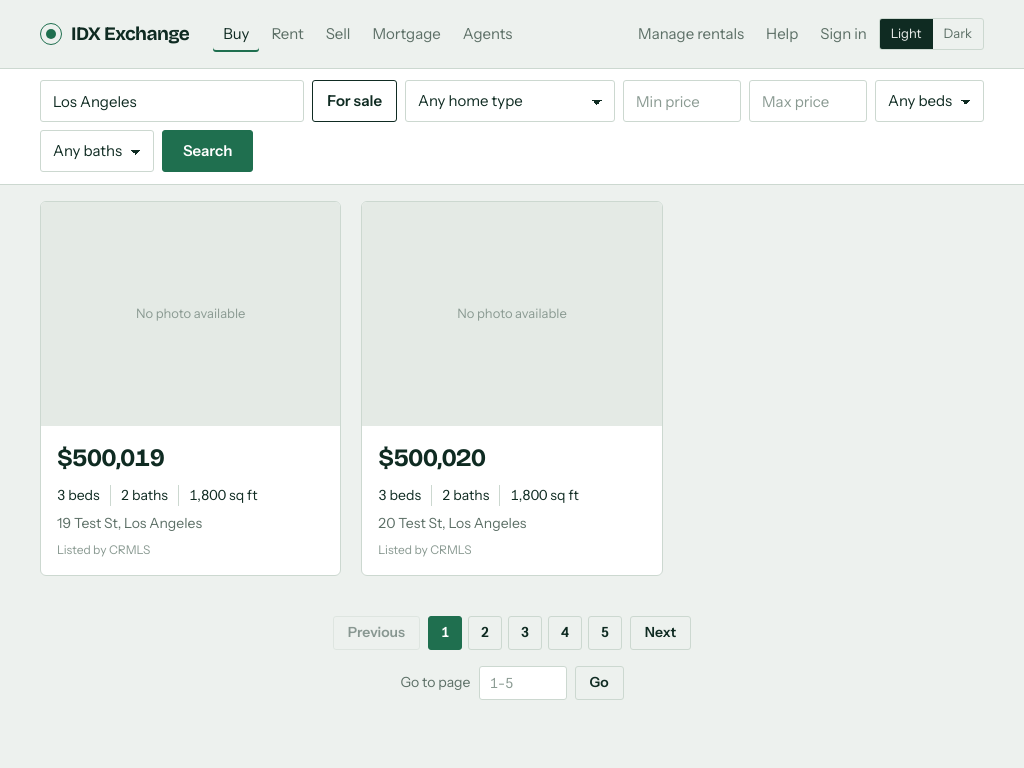
Test: SearchPage pagination › page-number buttons and Next still work
(page scrolled)
What coordinates should you click on to do the following:
click the button "Next"
I would click on:
 (660, 633)
Its box is [630,616,691,650].
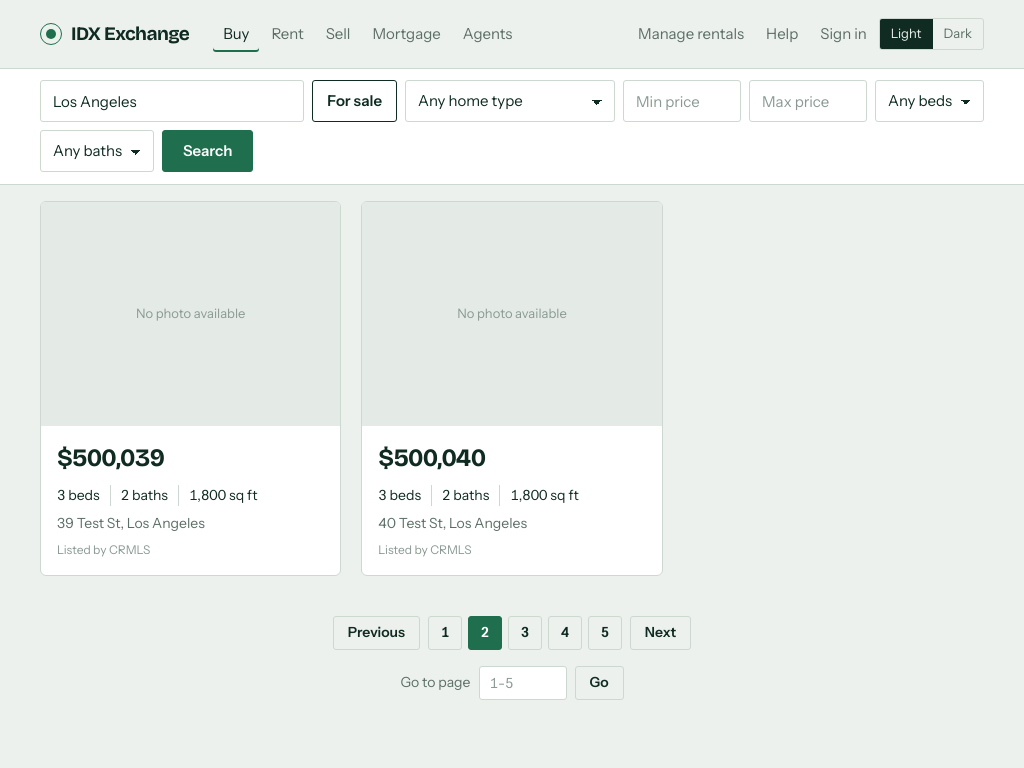
Expected: the navigation bar named "Pagination" is shown, [333,616,691,700]
What coordinates should you click on to do the following:
click the button named "Page 5"
I would click on:
 (605, 633)
Its box is [588,616,622,650].
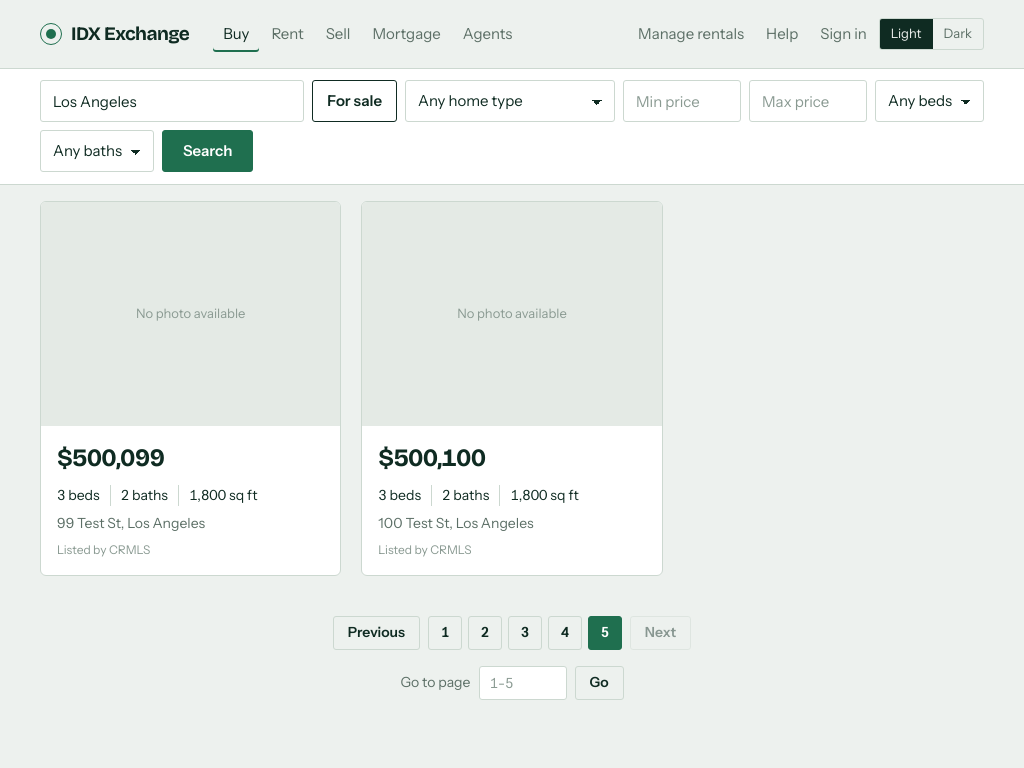
Expected: the navigation bar named "Pagination" is shown, [333,616,691,700]
Expected: the button "Next" is disabled, [630,616,691,650]
